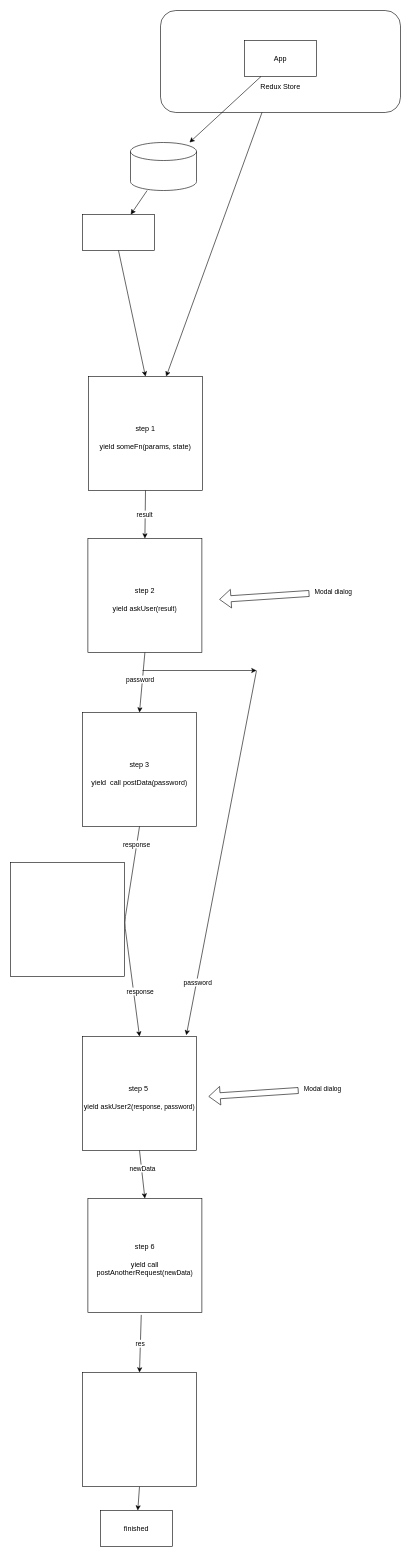
Image size: 411x1557. Some labels were removed from this diagram. The centre of each missing label's shape, as x and y in pixels:
"do complex task with params" goes at pixel 118 232.
"params" goes at pixel 163 166.
"step 4 dispatchAction( response )" goes at pixel 67 919.
"step 7 dispatchAnotherAction( res )" goes at pixel 139 1429.
